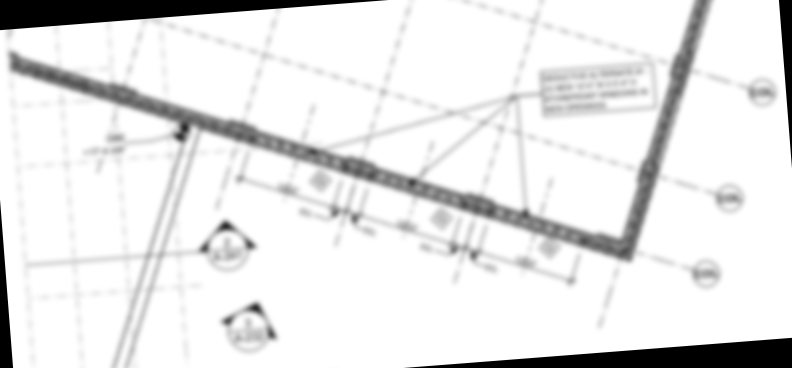window: (32, 52, 91, 102), (669, 45, 699, 97), (462, 185, 497, 225), (344, 149, 378, 190), (229, 109, 260, 134), (632, 153, 650, 186)
